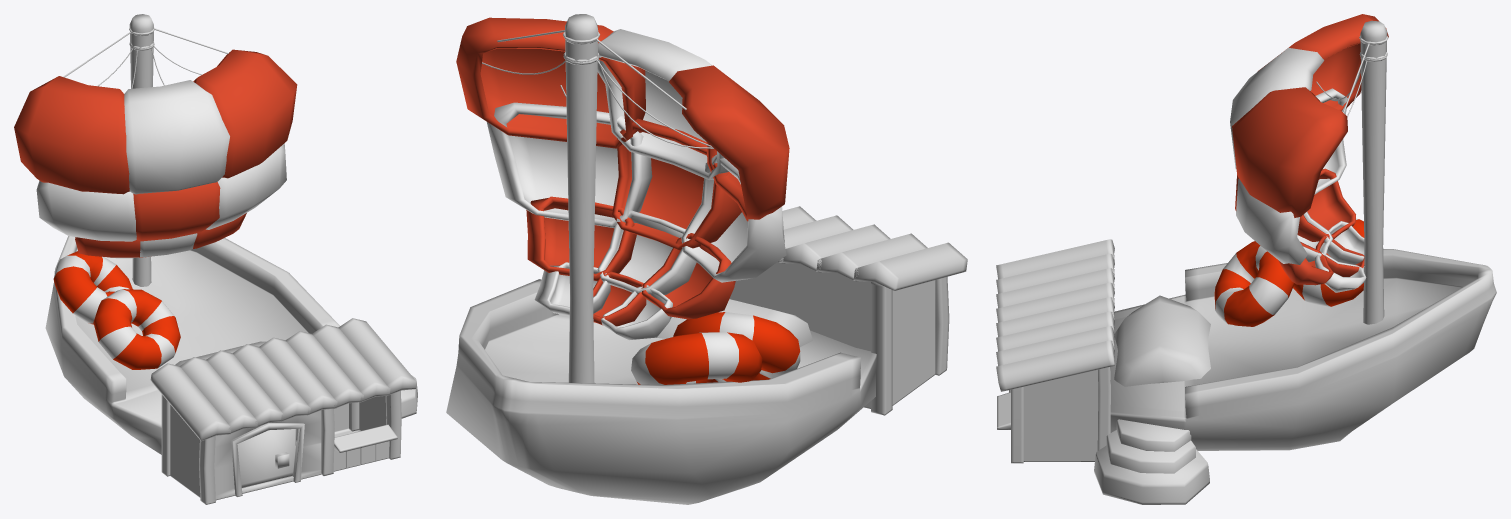
Rendered from boat_house02.fbx.
3 views of the same model, side by side, from view 1: azimuth 30°, elevation 25°; view 2: azimuth 150°, elevation 25°; view 3: azimuth 270°, elevation 25° (orthographic). The views are drawn at different scales.
Visible parts, largest first — view 1: sail, boat, roof.001, boat_house02, float, columns, float.001, door.003, SAIL, door_surround, front_decor.001, front_decor (+2 smaller); view 2: sail, boat, boat_house02, SAIL, roof.001, float.001, columns, float, sail_backup, sail_strings; view 3: boat, sail, roof.001, boat_stair, sail_backup, SAIL, boat_house02, float, columns, float.001.
Part boxes in pixels (x1,y1,x2,y2): sail: [14, 49, 297, 258]; boat: [45, 236, 339, 454]; roof.001: [150, 318, 416, 441]; boat_house02: [170, 396, 386, 500]; float: [93, 289, 180, 369]; columns: [161, 391, 401, 504]; float.001: [53, 251, 132, 324]; door.003: [237, 429, 295, 487]; SAIL: [129, 14, 153, 286]; door_surround: [231, 423, 304, 496]; front_decor.001: [334, 424, 397, 452]; front_decor: [333, 441, 389, 471]; sail: [456, 17, 789, 340]; boat: [446, 279, 876, 504]; boat_house02: [729, 261, 935, 408]; SAIL: [565, 14, 598, 383]; roof.001: [778, 206, 967, 290]; float.001: [631, 332, 762, 384]; columns: [871, 277, 949, 415]; float: [673, 312, 800, 380]; sail_backup: [657, 299, 812, 346]; sail_strings: [482, 30, 713, 148]; boat: [1110, 249, 1496, 450]; sail: [1230, 14, 1388, 292]; roof.001: [996, 239, 1114, 391]; boat_stair: [1094, 419, 1209, 504]; sail_backup: [1114, 295, 1210, 386]; SAIL: [1360, 20, 1387, 324]; boat_house02: [1023, 369, 1098, 461]; float: [1214, 241, 1294, 326]; columns: [1009, 367, 1110, 463]; float.001: [1293, 218, 1364, 306].
Size of the model in its own units: 916 by 977 by 1150.
